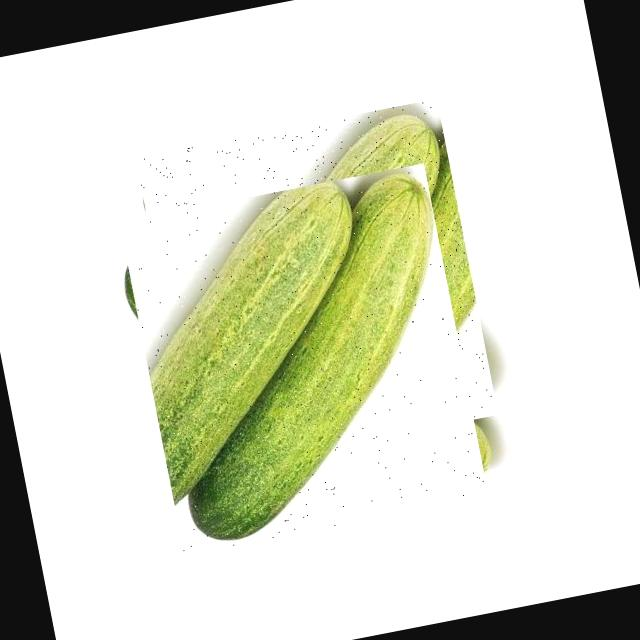Cucumber: (140, 176, 486, 540)
